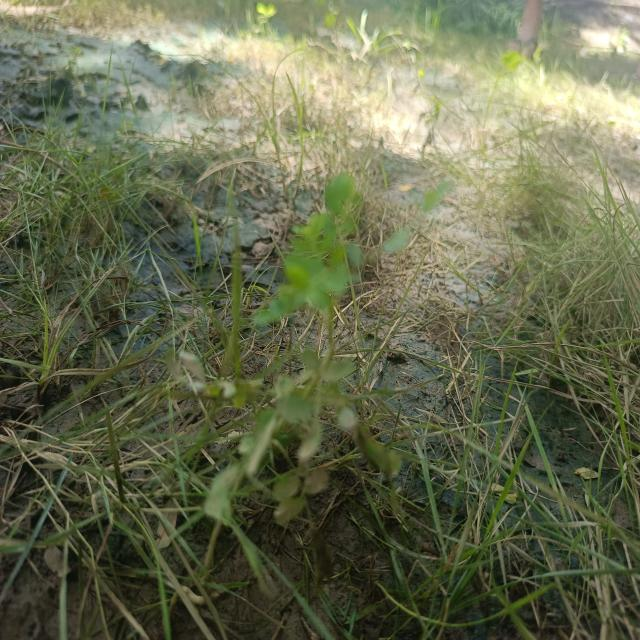weed: (197, 168, 367, 542)
